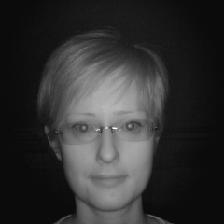normal: (31, 28, 172, 208)
